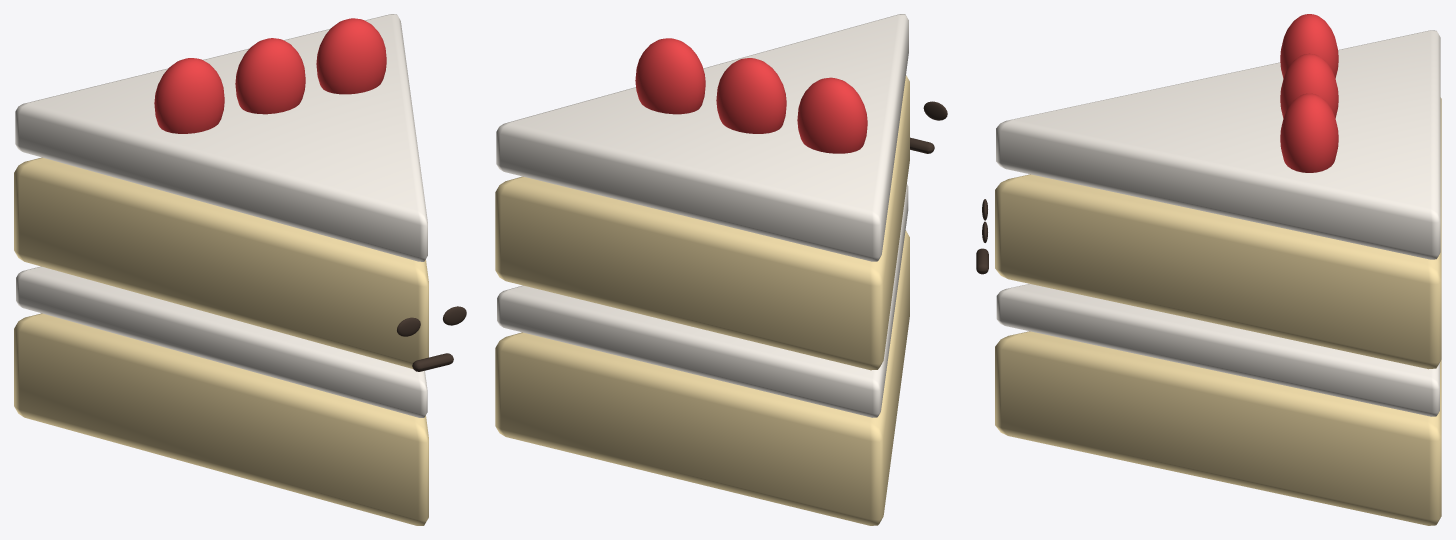
Rendered from slice_cake.glb.
3 renders of one model, left to right at view 1: azimuth 30°, elevation 25°; view 2: azimuth 150°, elevation 25°; view 3: azimuth 270°, elevation 25°, orthographic.
Parts seen in each view (by area): view 1: cream_top, wakppu_slice_cake, sponge_middle, cream_low, strawberry.002, strawberry.001, strawberry; view 2: cream_top, wakppu_slice_cake, sponge_middle, cream_low, strawberry.002, strawberry, strawberry.001; view 3: cream_top, sponge_middle, wakppu_slice_cake, cream_low, strawberry.002, strawberry.001, strawberry.
Part boxes in pixels (bbox=[...]): cream_top: bbox=[15, 14, 427, 261]; wakppu_slice_cake: bbox=[14, 313, 428, 525]; sponge_middle: bbox=[14, 157, 428, 368]; cream_low: bbox=[16, 266, 427, 417]; strawberry.002: bbox=[316, 18, 386, 94]; strawberry.001: bbox=[235, 38, 305, 114]; strawberry: bbox=[154, 58, 224, 133]; cream_top: bbox=[496, 14, 908, 261]; wakppu_slice_cake: bbox=[495, 230, 909, 525]; sponge_middle: bbox=[495, 75, 909, 370]; cream_low: bbox=[497, 184, 908, 417]; strawberry.002: bbox=[635, 38, 705, 114]; strawberry: bbox=[797, 77, 867, 153]; strawberry.001: bbox=[716, 58, 786, 133]; cream_top: bbox=[996, 30, 1440, 259]; sponge_middle: bbox=[995, 97, 1441, 369]; wakppu_slice_cake: bbox=[995, 331, 1441, 525]; cream_low: bbox=[996, 284, 1439, 416]; strawberry.002: bbox=[1280, 93, 1338, 172]; strawberry.001: bbox=[1280, 53, 1338, 118]; strawberry: bbox=[1280, 14, 1338, 78].
Bounding box in the file's own units: 1.76 × 1.65 × 1.83.
